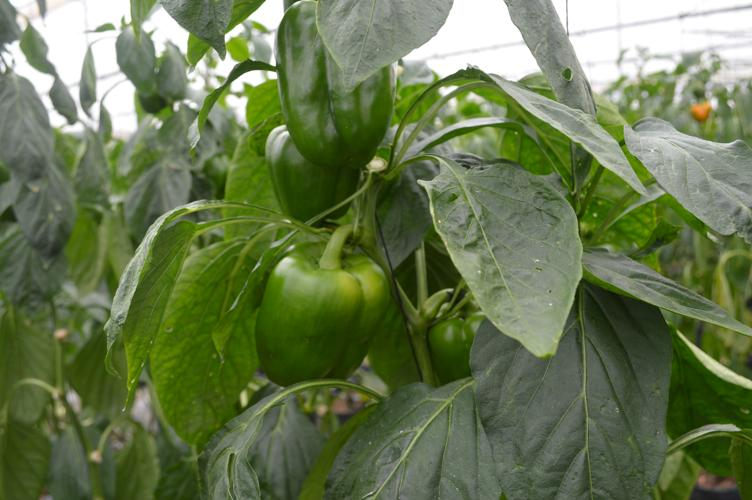BellPepper: (277, 7, 395, 166), (256, 247, 384, 385), (264, 128, 358, 223), (431, 310, 474, 383)
